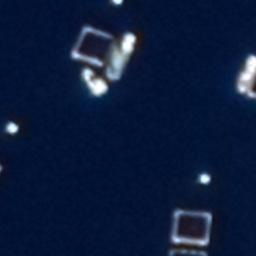square_solid: (69, 25, 120, 69), (169, 208, 214, 247)
